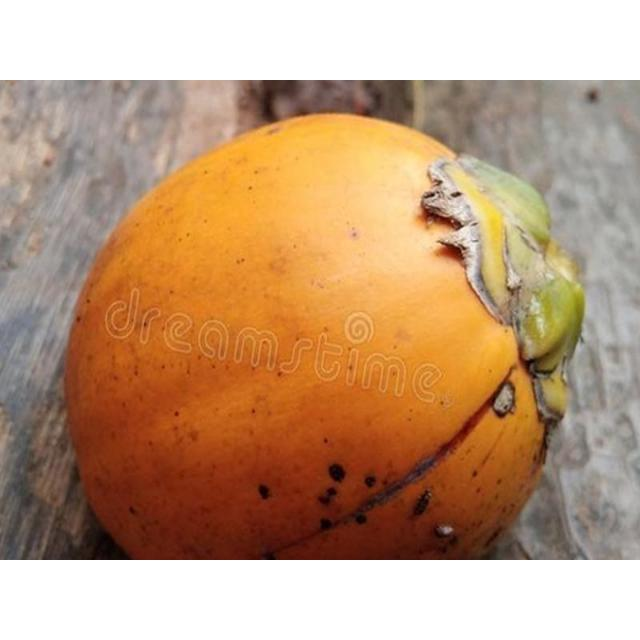good: (60, 114, 586, 559)
